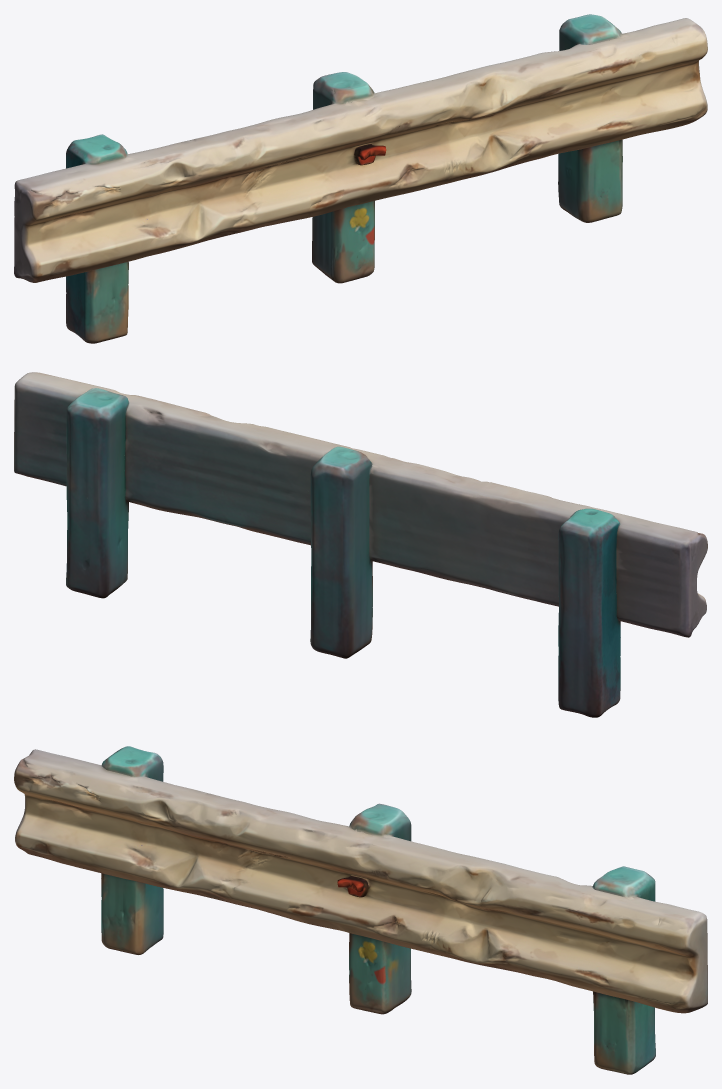
Rendered from guardrail.glb.
3 views of the same model, one above another, from view 1: azimuth 30°, elevation 25°; view 2: azimuth 150°, elevation 25°; view 3: azimuth 330°, elevation 25° (orthographic).
Parts seen in each view (by area): view 1: tripo_part_0, tripo_part_3, tripo_part_1, tripo_part_2; view 2: tripo_part_0, tripo_part_1, tripo_part_2, tripo_part_3; view 3: tripo_part_0, tripo_part_1, tripo_part_3, tripo_part_2.
Boxes of the visible parts, x1,y1,x2,y2 form: tripo_part_0: (14,18,707,282); tripo_part_3: (558,14,629,222); tripo_part_1: (312,72,382,283); tripo_part_2: (66,134,128,343); tripo_part_0: (14,372,707,637); tripo_part_1: (310,446,378,658); tripo_part_2: (558,508,620,717); tripo_part_3: (66,388,129,598); tripo_part_0: (14,749,707,1013); tripo_part_1: (343,803,411,1014); tripo_part_3: (592,866,655,1074); tripo_part_2: (101,746,163,954).
Bounding box in the file's own units: 0.9785 × 0.2635 × 0.1166.
1 material, 1 textured.
